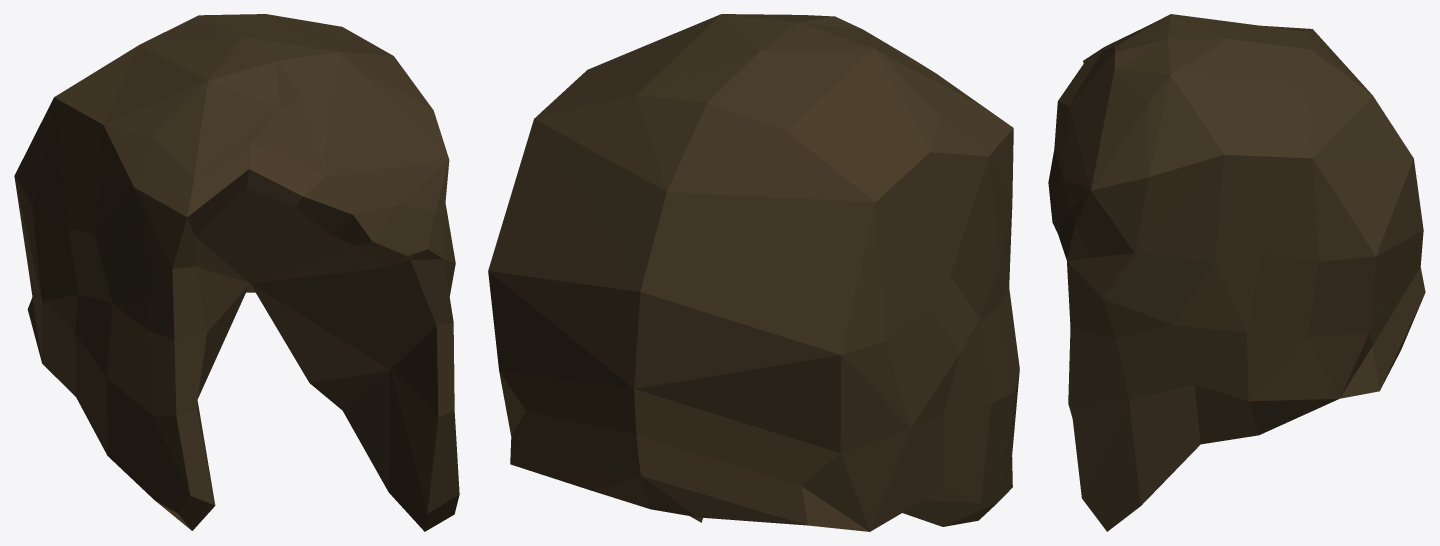
The model's file is Chr_Hair_35_Static.fbx.
The picture shows the model from 3 angles, left to right: view 1: azimuth 30°, elevation 25°; view 2: azimuth 150°, elevation 25°; view 3: azimuth 270°, elevation 25°; orthographic projection. The views are drawn at different scales.
Parts seen in each view (by area): view 1: Chr_Hair_35_Static; view 2: Chr_Hair_35_Static; view 3: Chr_Hair_35_Static.
Part boxes in pixels (x1,y1,x2,y2): Chr_Hair_35_Static: (14,14,459,531); Chr_Hair_35_Static: (488,14,1019,531); Chr_Hair_35_Static: (1048,14,1425,531).
Size of the model in its own units: 0.2593 by 0.348 by 0.2723.
